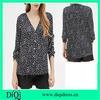C_blouse: (12, 10, 55, 81), (63, 3, 98, 61)
